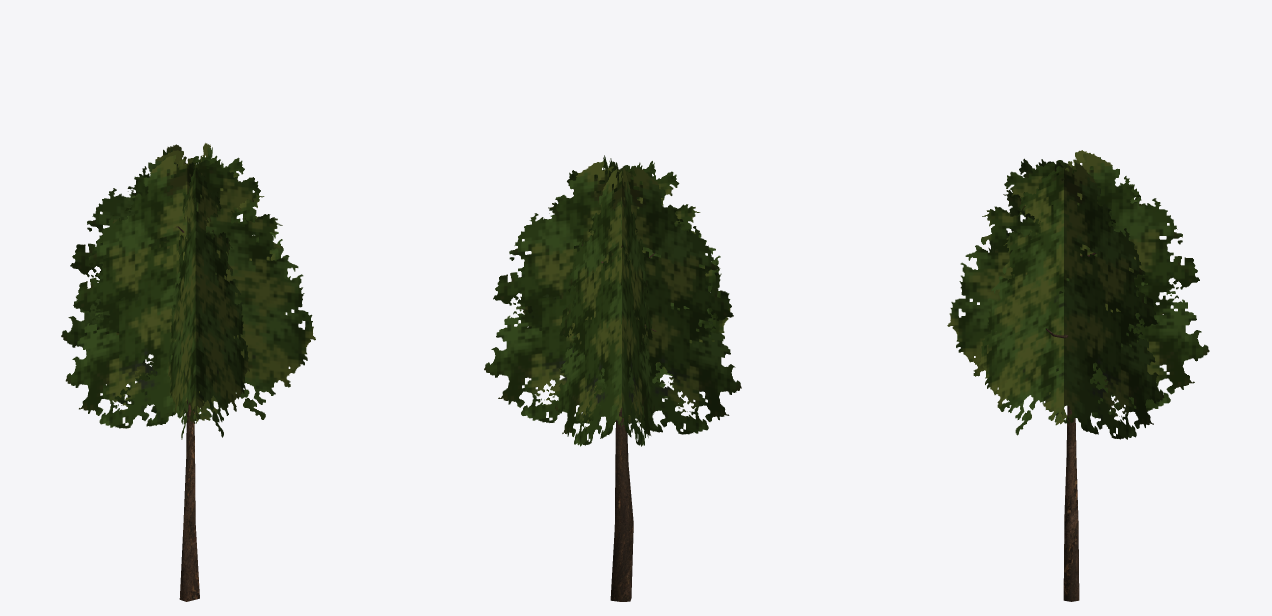
File: MapleTree.fbx
3 renders of one model, left to right at view 1: azimuth 30°, elevation 25°; view 2: azimuth 150°, elevation 25°; view 3: azimuth 270°, elevation 25°, orthographic. The views are drawn at different scales.
Parts seen in each view (by area): view 1: pPlane4, MapleTree; view 2: pPlane4, MapleTree; view 3: pPlane4, MapleTree.
Part boxes in pixels (bbox=[...]): pPlane4: bbox=[61, 143, 315, 439]; MapleTree: bbox=[175, 226, 199, 601]; pPlane4: bbox=[484, 155, 741, 446]; MapleTree: bbox=[582, 244, 656, 601]; pPlane4: bbox=[947, 150, 1209, 439]; MapleTree: bbox=[1045, 253, 1095, 601].
Bounding box in the file's own units: 899 × 1229 × 899.
Materials: 2 (2 with a texture image).
